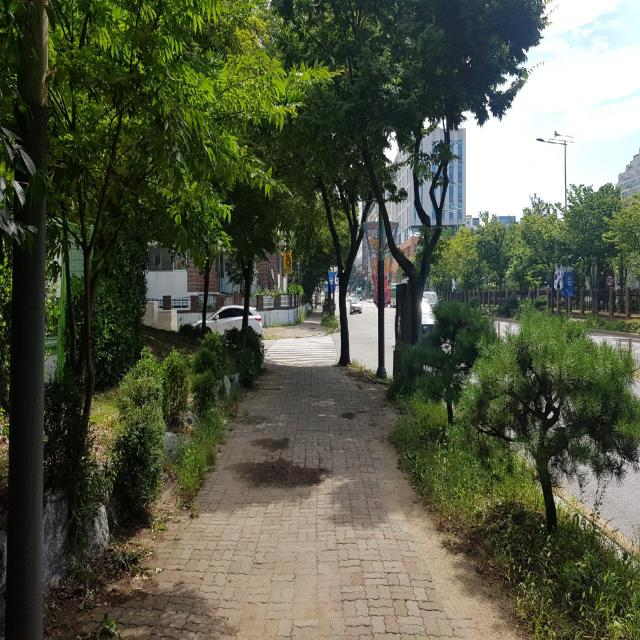횡단보도: (263, 335, 339, 365)
